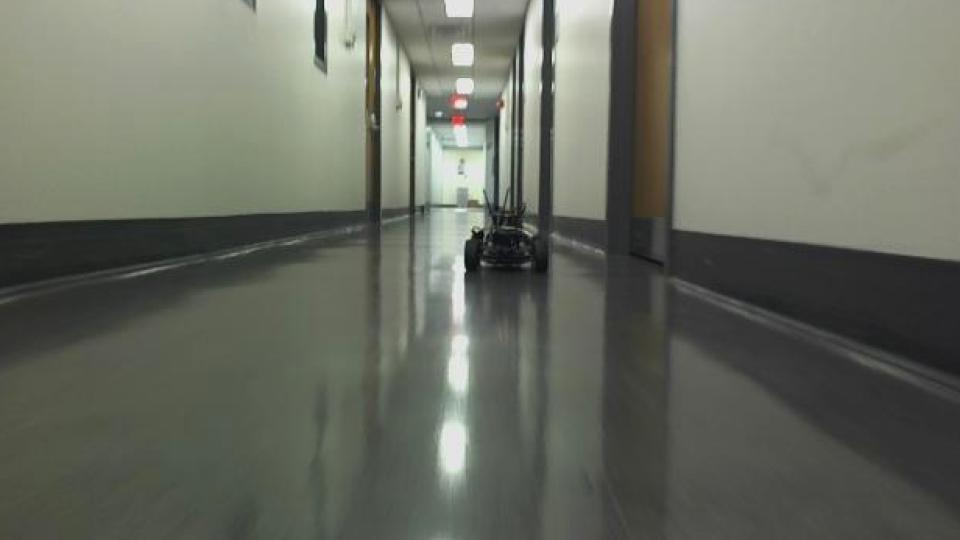car: (460, 186, 548, 276)
